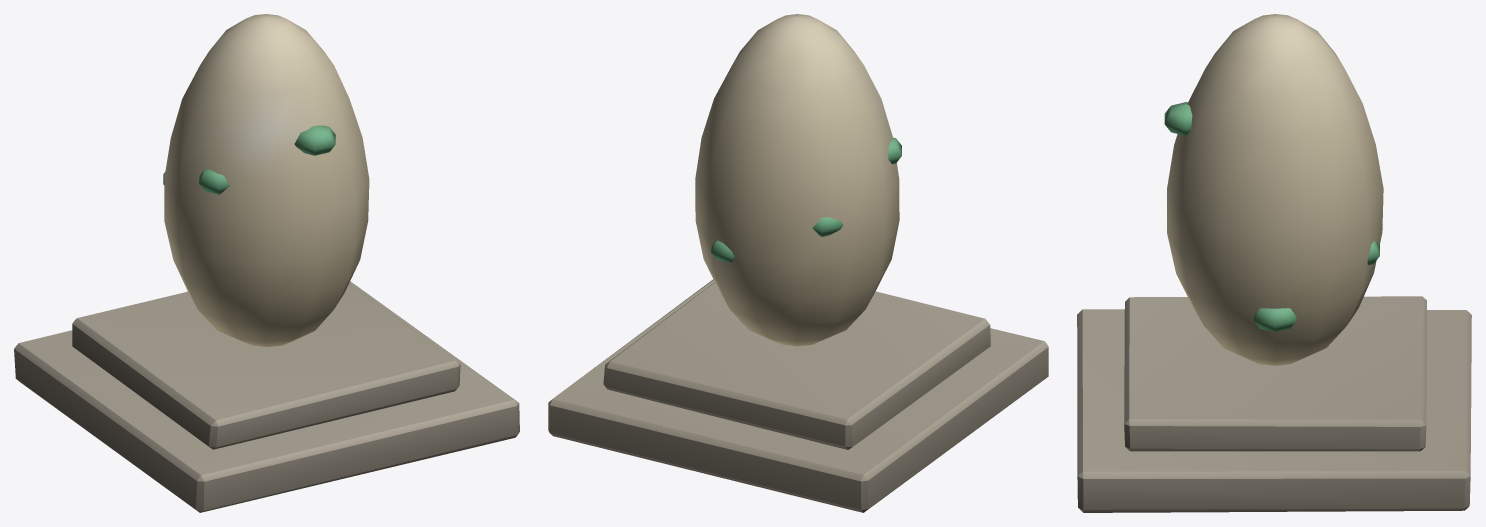
Rendered from world_landmark_egg_monument.fbx.
3 renders of one model, left to right at view 1: azimuth 30°, elevation 25°; view 2: azimuth 150°, elevation 25°; view 3: azimuth 270°, elevation 25°, orthographic. The views are drawn at different scales.
Parts seen in each view (by area): view 1: world_landmark_egg_monument; view 2: world_landmark_egg_monument; view 3: world_landmark_egg_monument.
Part boxes in pixels (x1=…): world_landmark_egg_monument: x1=14, y1=14, x2=519, y2=512; world_landmark_egg_monument: x1=548, y1=14, x2=1048, y2=512; world_landmark_egg_monument: x1=1077, y1=14, x2=1471, y2=512.
Bounding box in the file's own units: 442 × 511 × 442.
